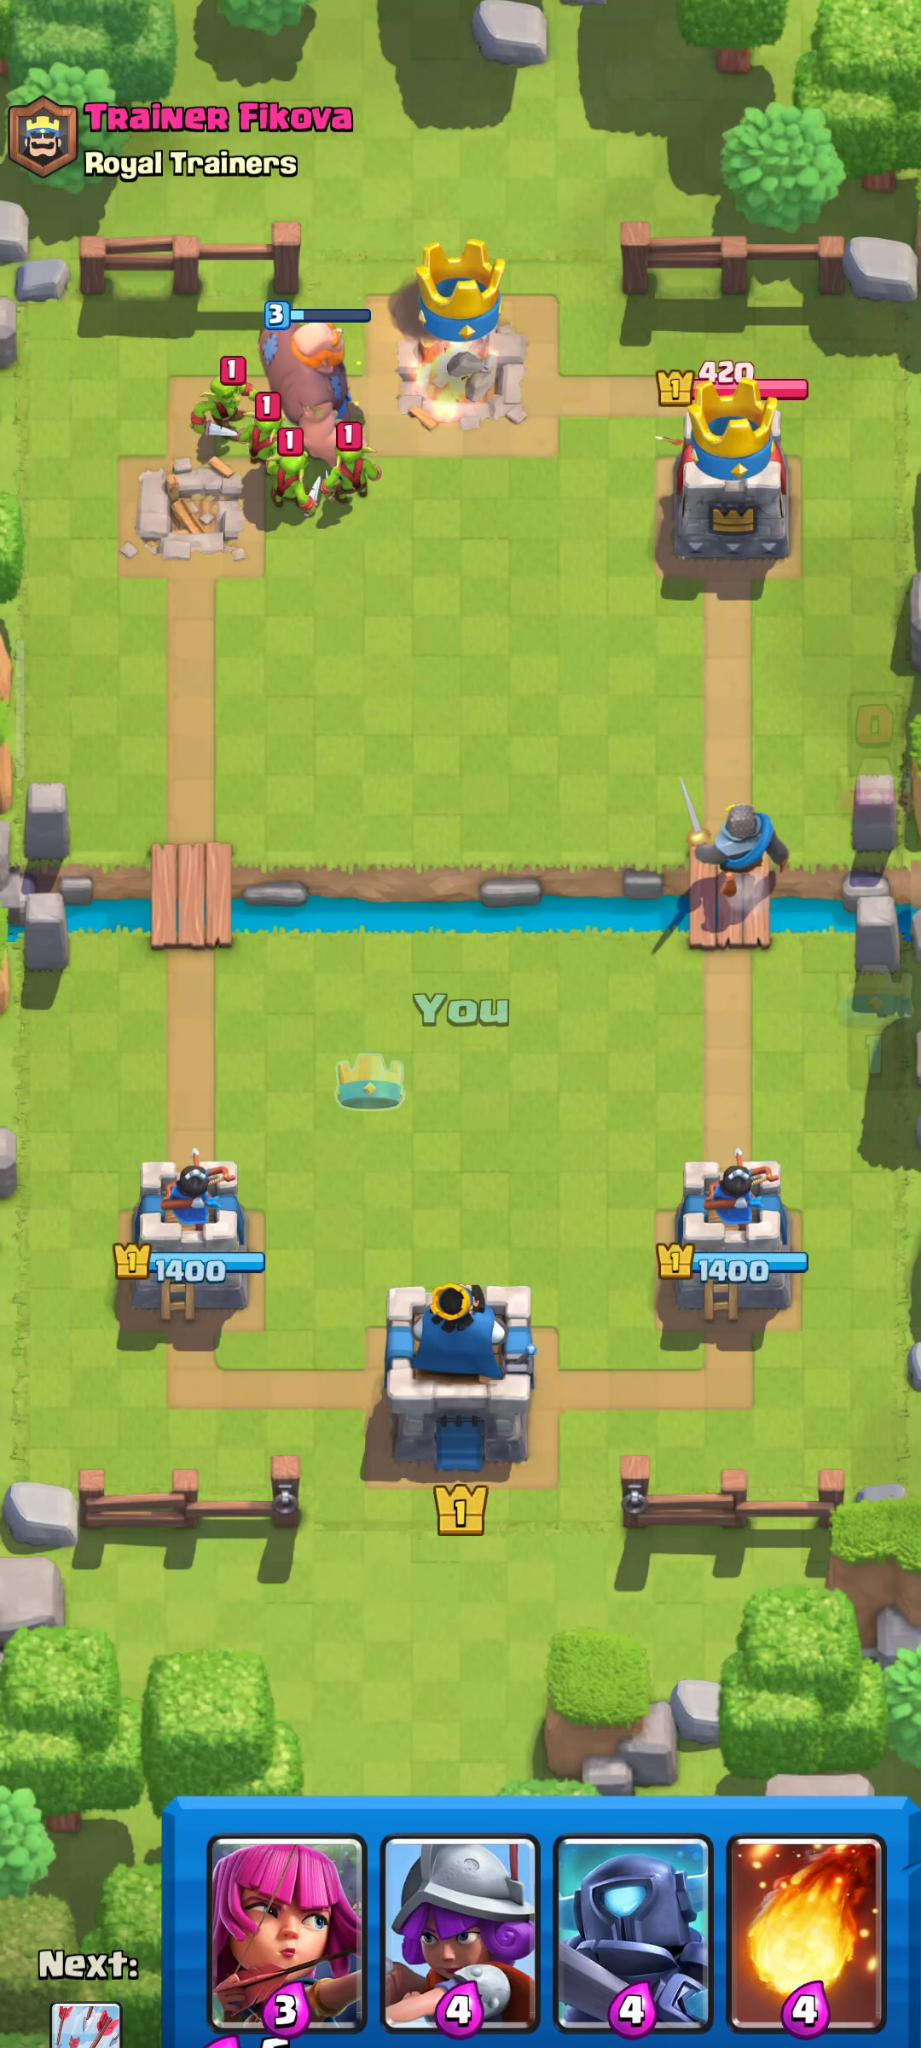chevalier: (666, 775, 800, 910)
gargouille: (654, 330, 850, 630), (389, 236, 562, 445)
geant: (256, 306, 371, 474)
gobelin_lances: (192, 372, 250, 458), (264, 436, 314, 517), (332, 430, 376, 512), (243, 401, 282, 478)
squelette: (635, 1079, 843, 1377), (102, 1113, 291, 1340)
valkyrie: (350, 1268, 583, 1550)
zappy: (186, 1789, 913, 2045)
